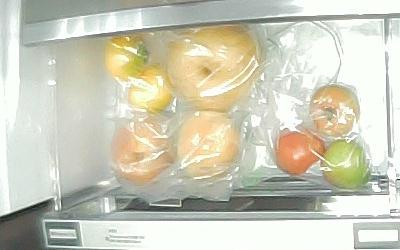peach_vinyl: (108, 121, 175, 185), (176, 111, 237, 179)
pear_vinyl: (165, 23, 259, 112)
tangerine_vinyl: (126, 64, 171, 114), (103, 34, 149, 79)
tomato_vinyl: (309, 84, 359, 137), (273, 129, 324, 176), (321, 139, 368, 189)
